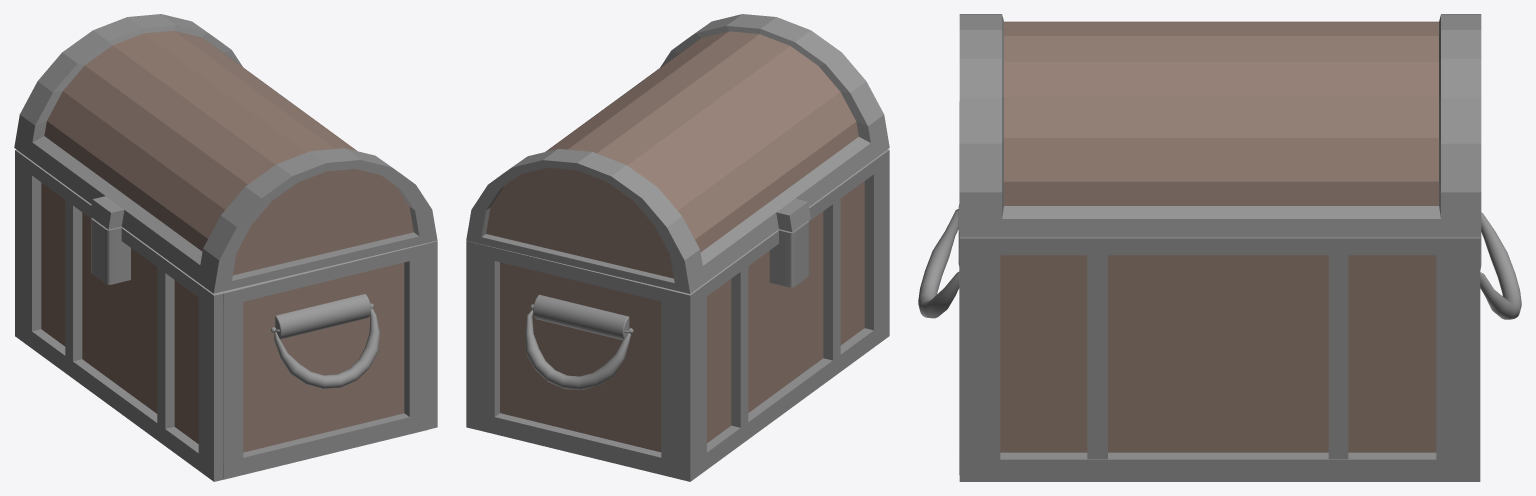
Rendered from Chest.fbx.
3 views of the same model, side by side, from view 1: azimuth 30°, elevation 25°; view 2: azimuth 150°, elevation 25°; view 3: azimuth 270°, elevation 25° (orthographic). The views are drawn at different scales.
Visible parts, largest first — view 1: pTorus4, pCylinder1; view 2: pTorus4, pCylinder1; view 3: pTorus4, pCylinder1.
Boxes of the visible parts, bbox=[...] form: pTorus4: bbox=[15, 149, 437, 481]; pCylinder1: bbox=[14, 14, 437, 293]; pTorus4: bbox=[466, 149, 889, 481]; pCylinder1: bbox=[466, 14, 889, 293]; pTorus4: bbox=[918, 102, 1521, 481]; pCylinder1: bbox=[959, 14, 1481, 237].
Size of the model in its own units: 12.24 by 14.36 by 20.61.
